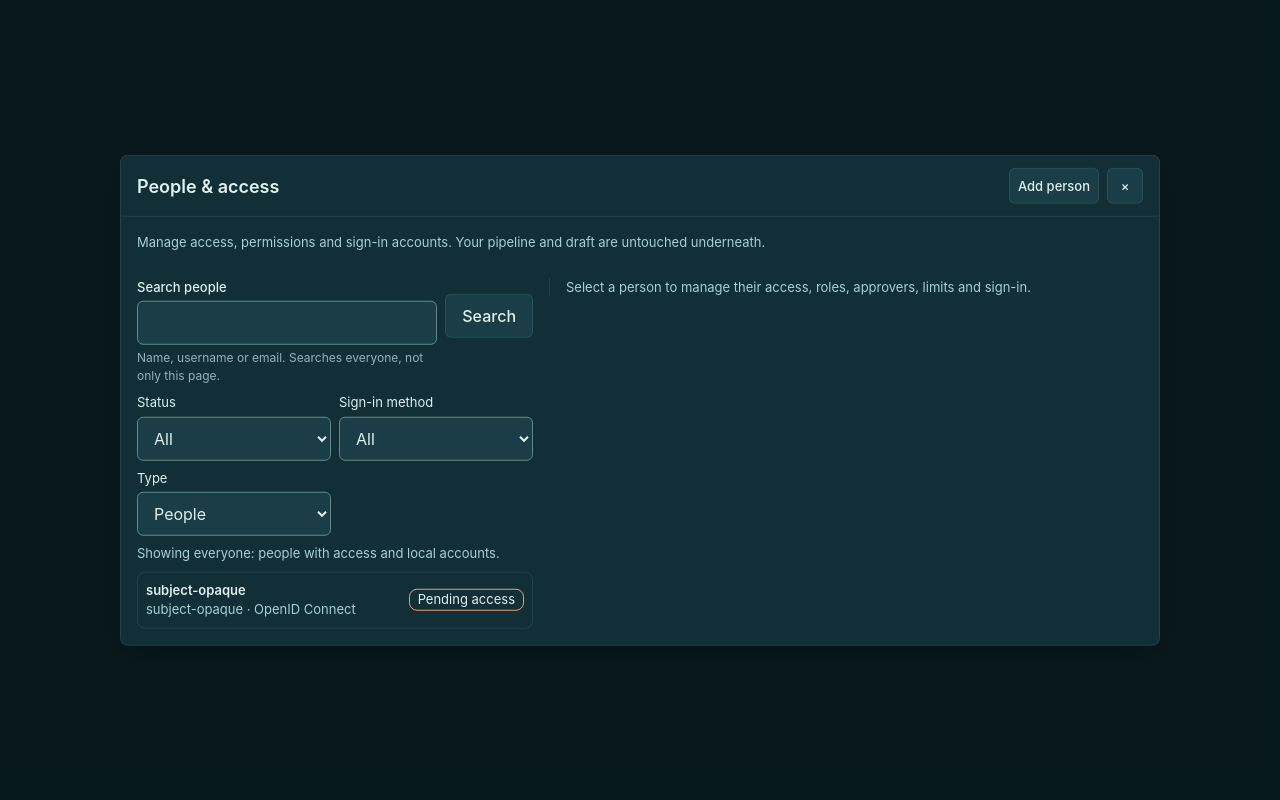
People & access journeys › approves a pending person and keeps them on screen after they leave the pending list
Select "Pending access" in the dropdown labelled "Status" at (234, 438), box x1=137 y1=416 x2=331 y2=460
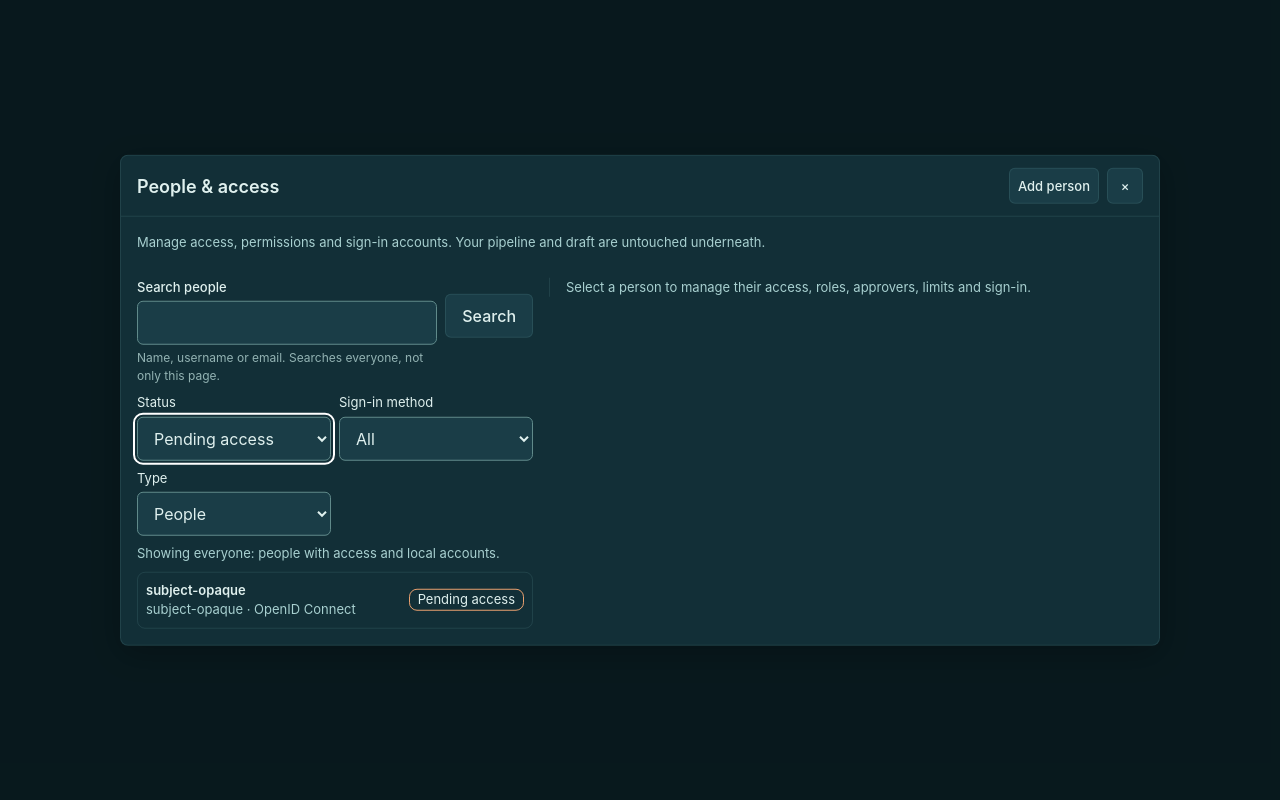
Click the button "subject-opaque" at (335, 600), box x1=137 y1=571 x2=533 y2=628
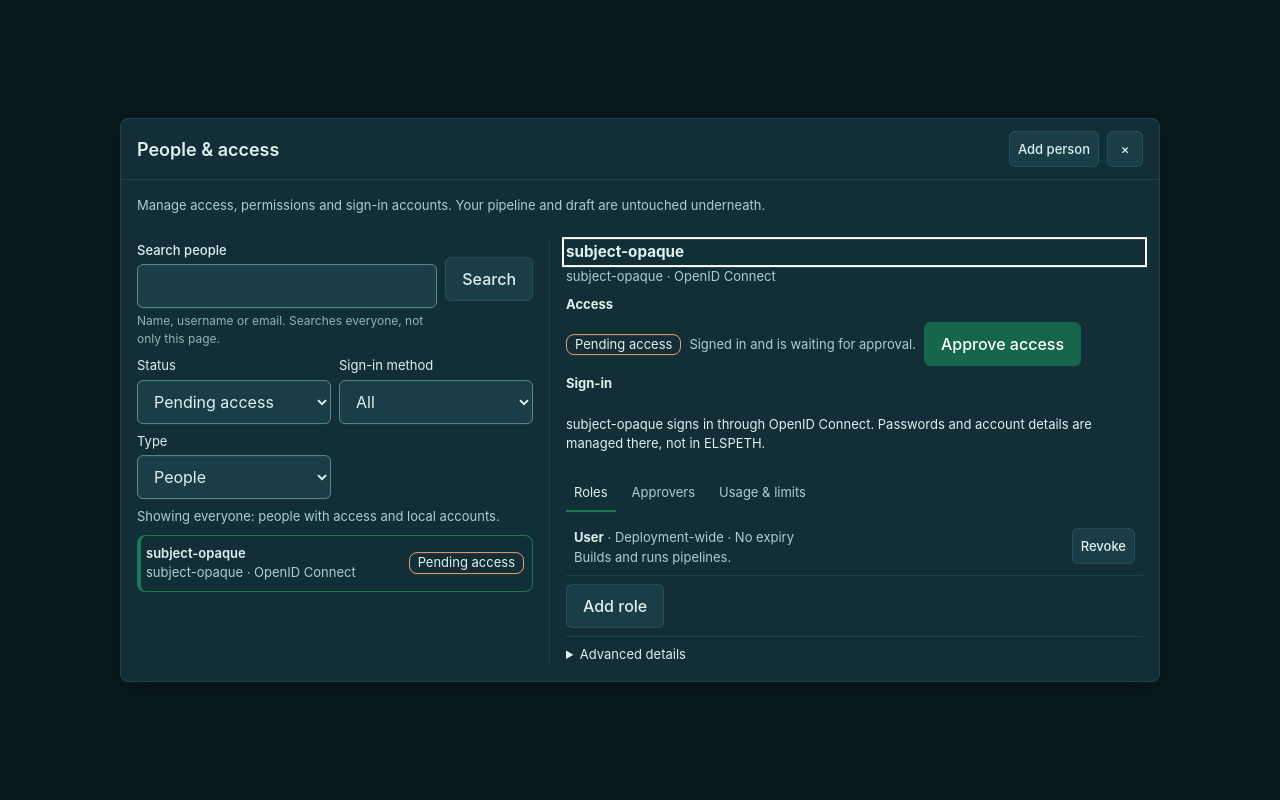
Click the button "Approve access" at (1002, 344), box x1=924 y1=322 x2=1081 y2=366
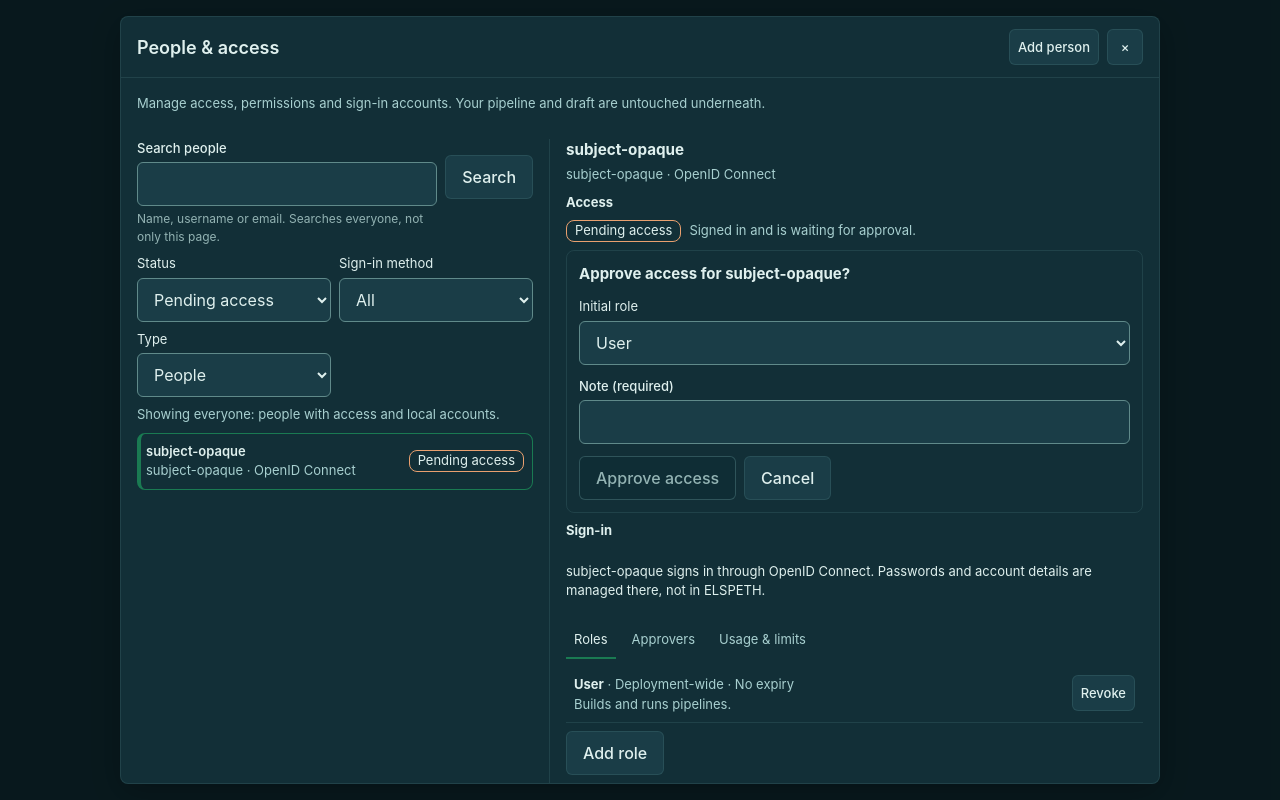
Result: the button "Approve access" is disabled at x1=579 y1=456 x2=736 y2=500
Type "Admit for work" into the field labelled "Note (required)" at (854, 422), box x1=579 y1=400 x2=1130 y2=444
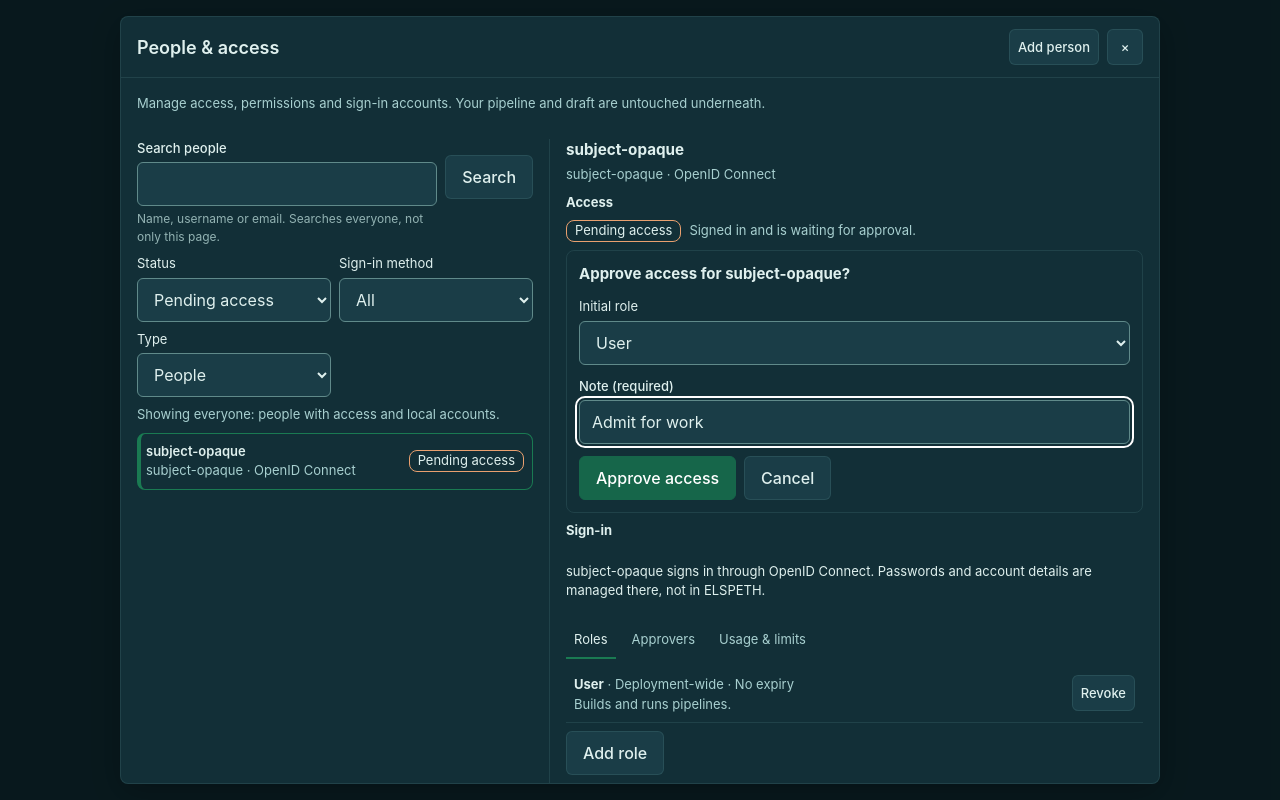
Click the button "Approve access" at (658, 478), box x1=579 y1=456 x2=736 y2=500
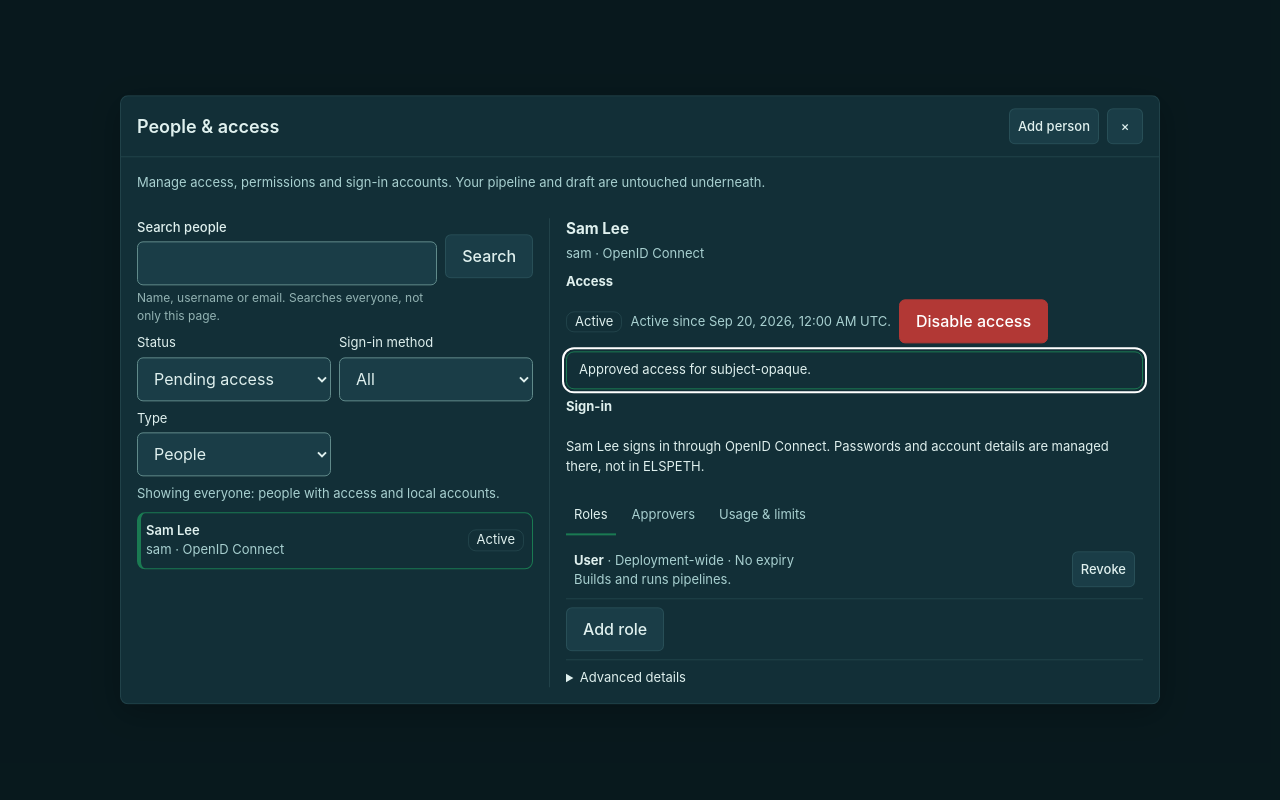
Result: the heading "Sam Lee" is shown at x1=566 y1=219 x2=629 y2=238
Result: the text "Active" next to "Active since Sep 20, 2026, 12:00 AM UTC." is shown at x1=575 y1=313 x2=613 y2=329
